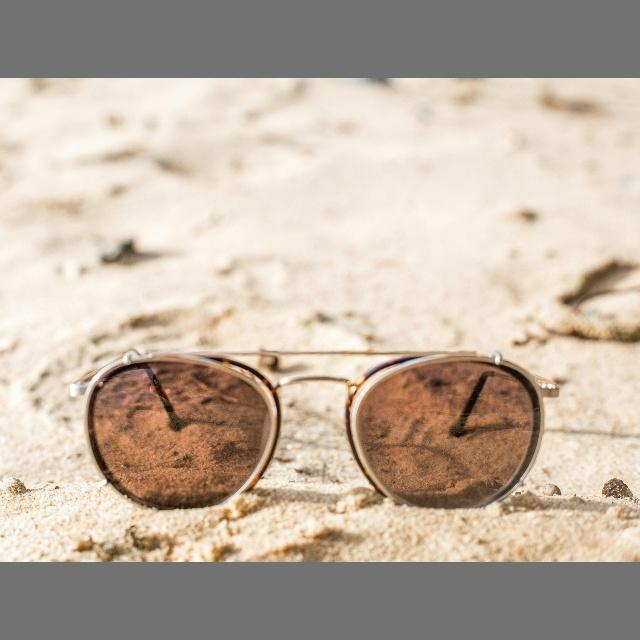Sunglasses: (68, 344, 556, 512)
